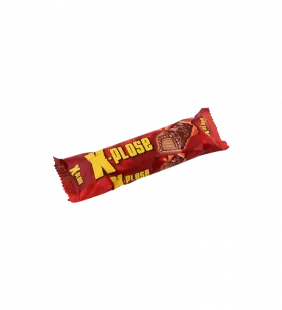XPLOSE: (45, 101, 236, 212)
